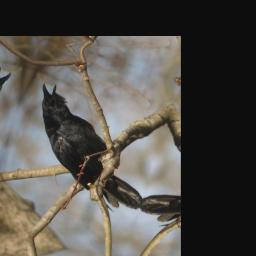Crow: (11, 77, 168, 215)
